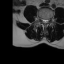CCS_normal: (44, 17, 46, 25)
LFS_normal: (48, 16, 50, 23)
LLS_normal: (46, 17, 48, 25)
RFS_normal: (40, 15, 42, 22)
RLS_normal: (42, 17, 44, 24)
